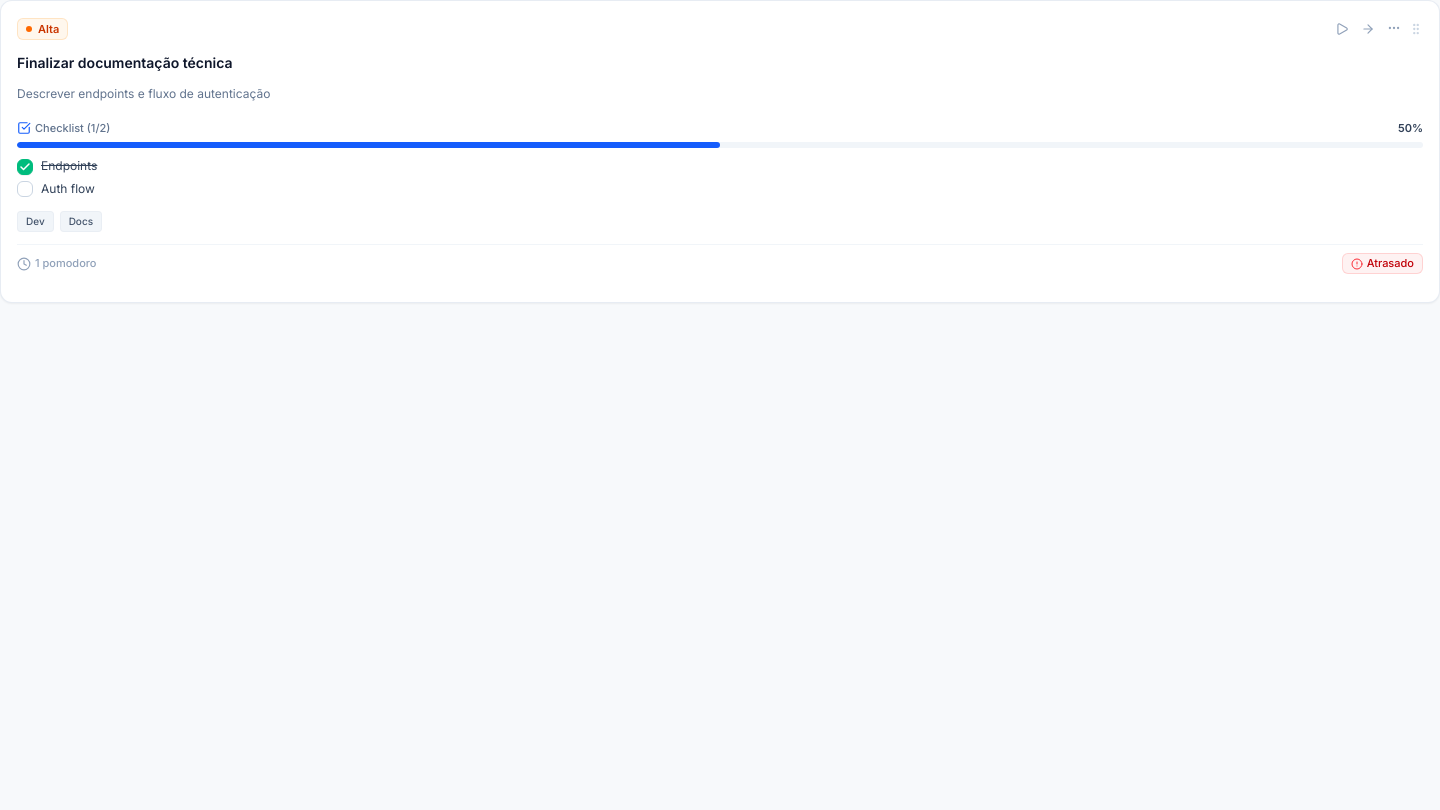
TaskCard › fecha o menu de 3 pontinhos ao clicar fora ou pressionar Escape
The image size is (1440, 810).
Click the button titled "Mais opções": x=1394, y=28 [1383,17,1405,39]
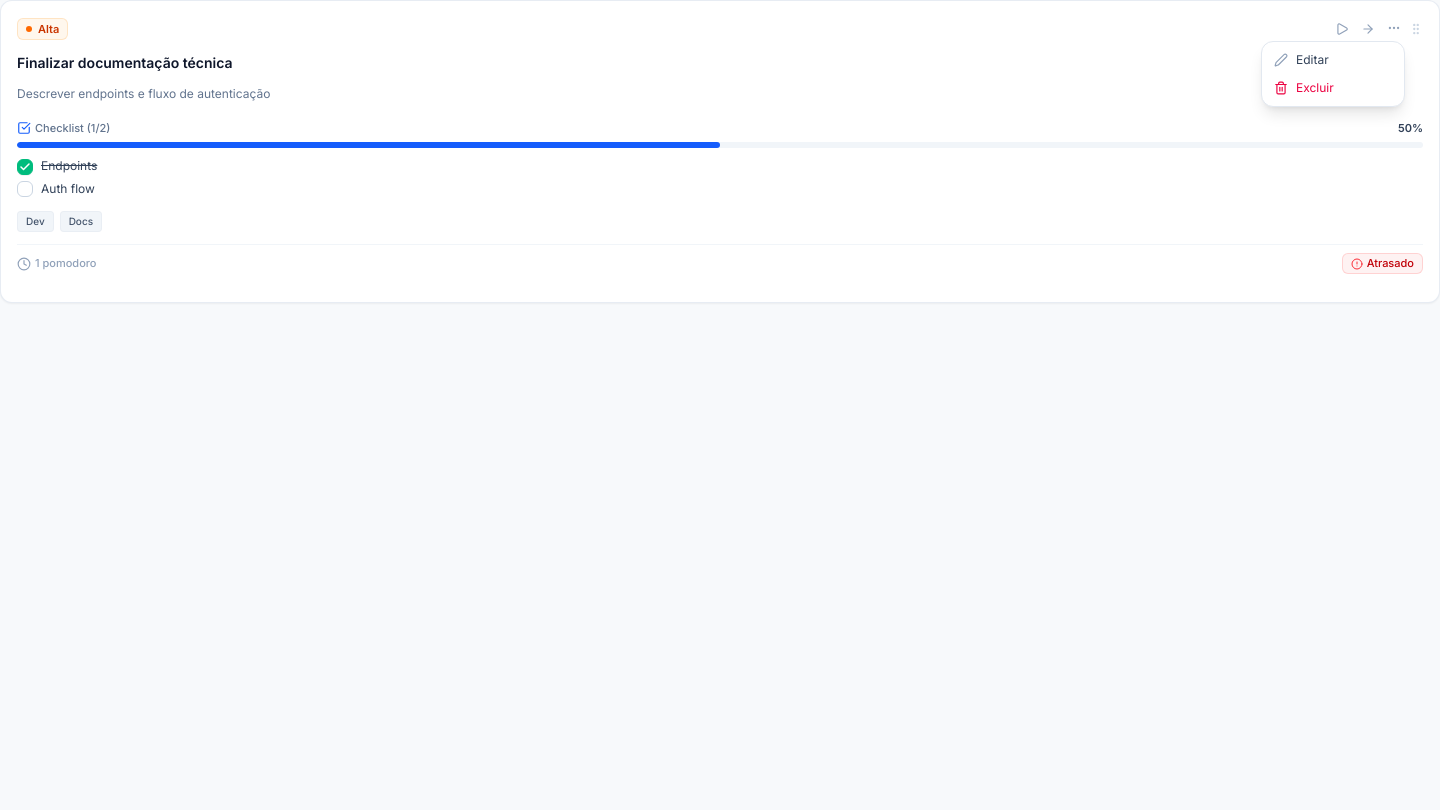
Expected: the button "Editar" is shown, [1262,46,1404,74]
Pressionar tecla Escape deve fechar o menu
Press Escape
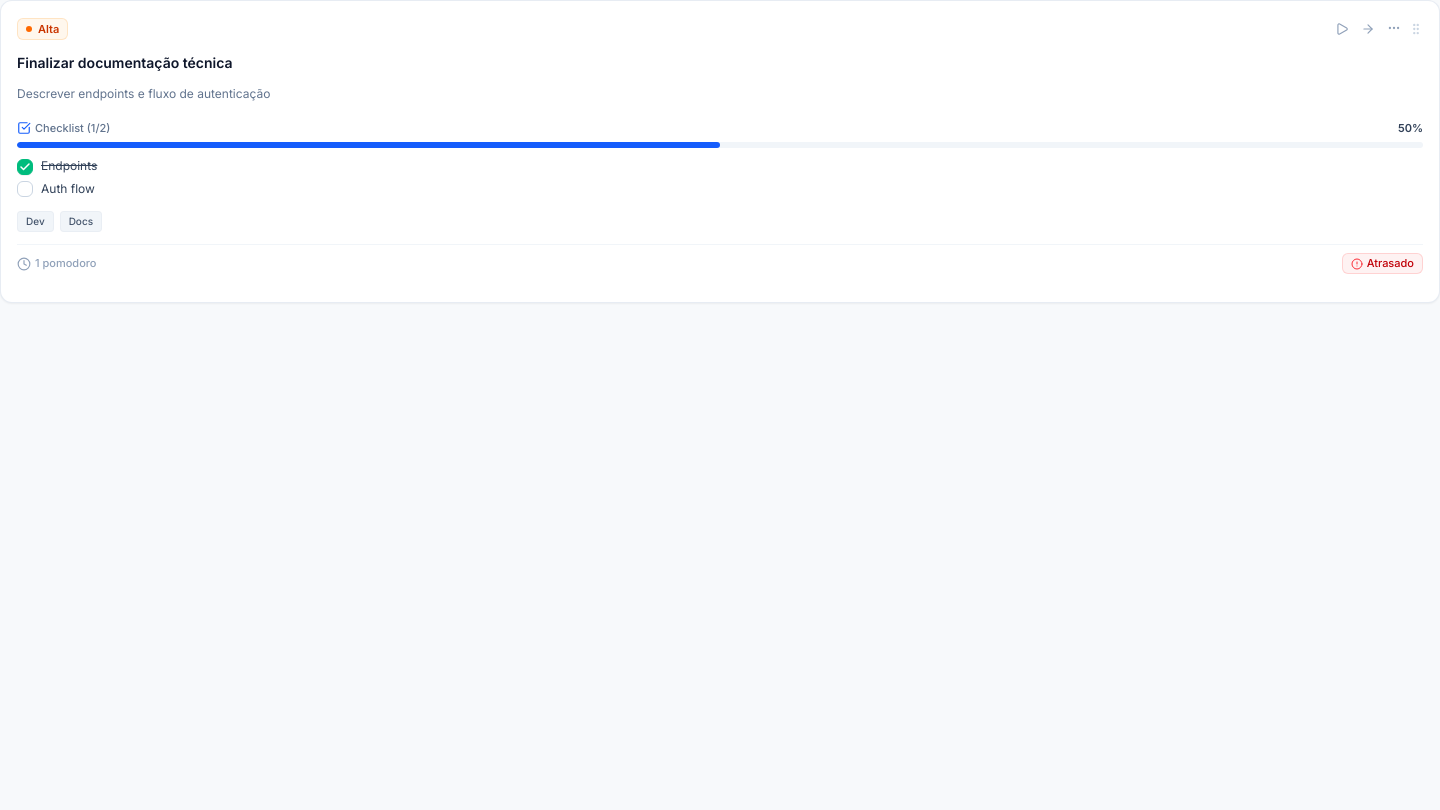
Expected: the button "Editar" is gone
Reabrir o menu
Click the button titled "Mais opções": x=1394, y=28 [1383,17,1405,39]
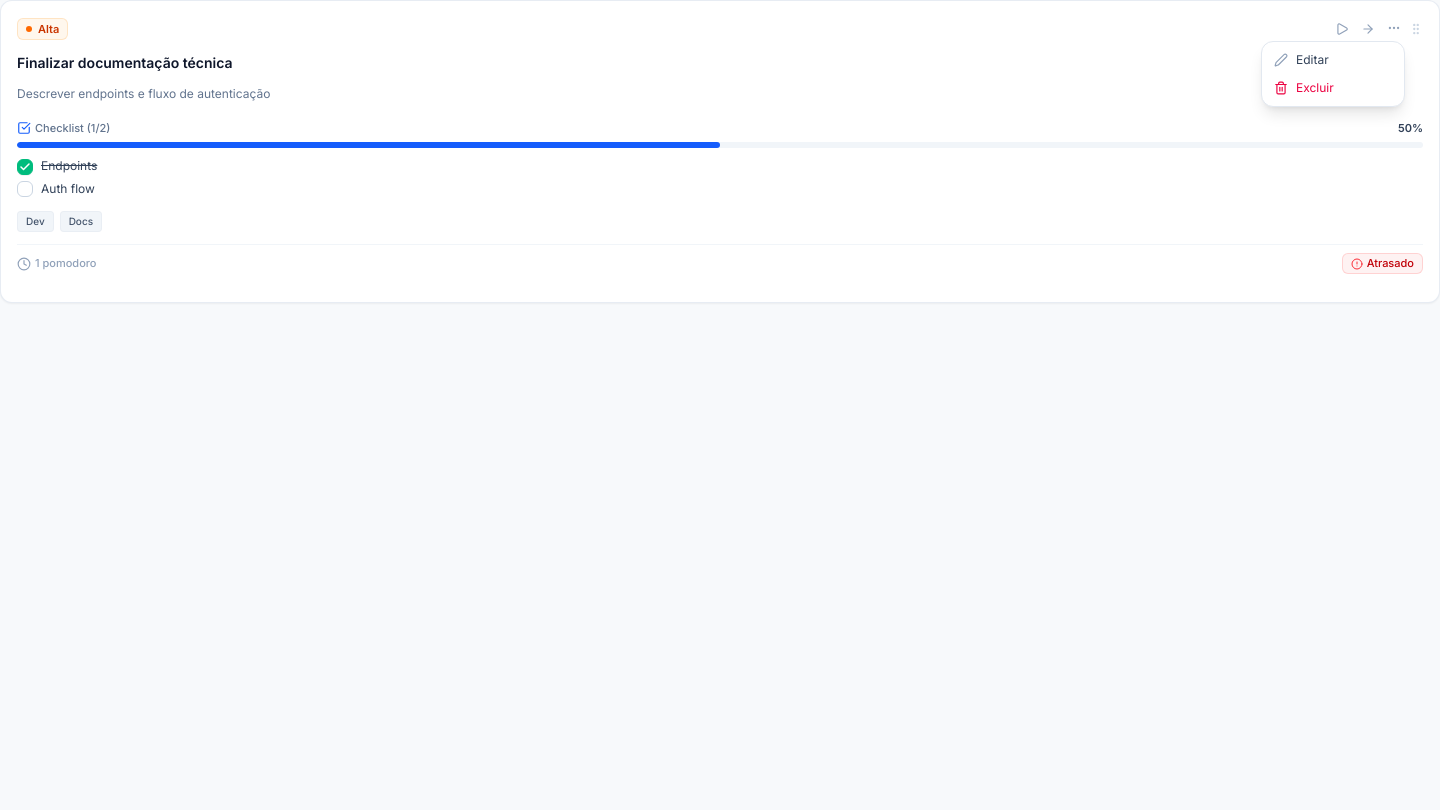
Expected: the button "Editar" is shown, [1262,46,1404,74]
Clicar fora (no document body) deve fechar o menu
Press the mouse on the element that starts with "Alta": x=720, y=405 [0,0,1439,809]
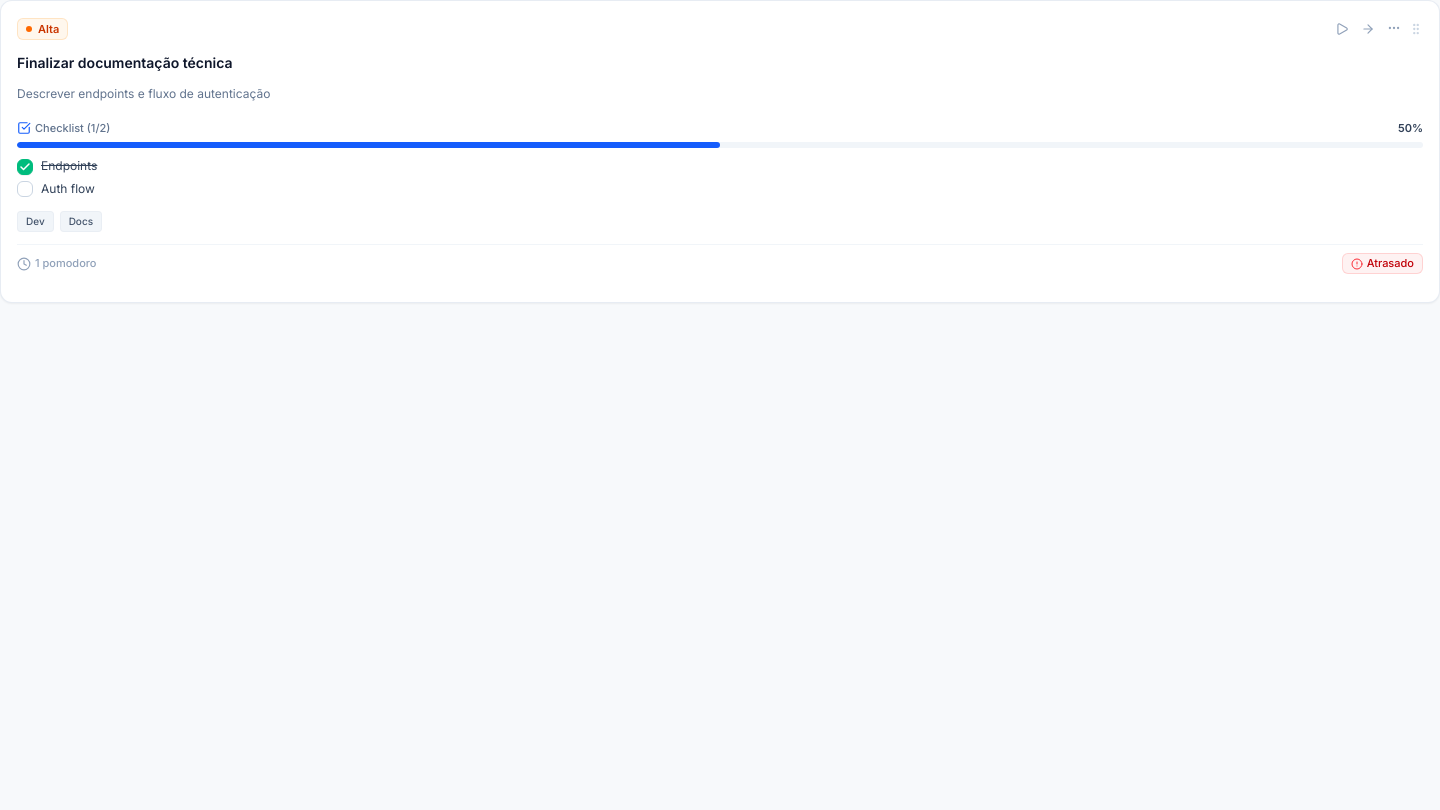
Expected: the button "Editar" is gone
